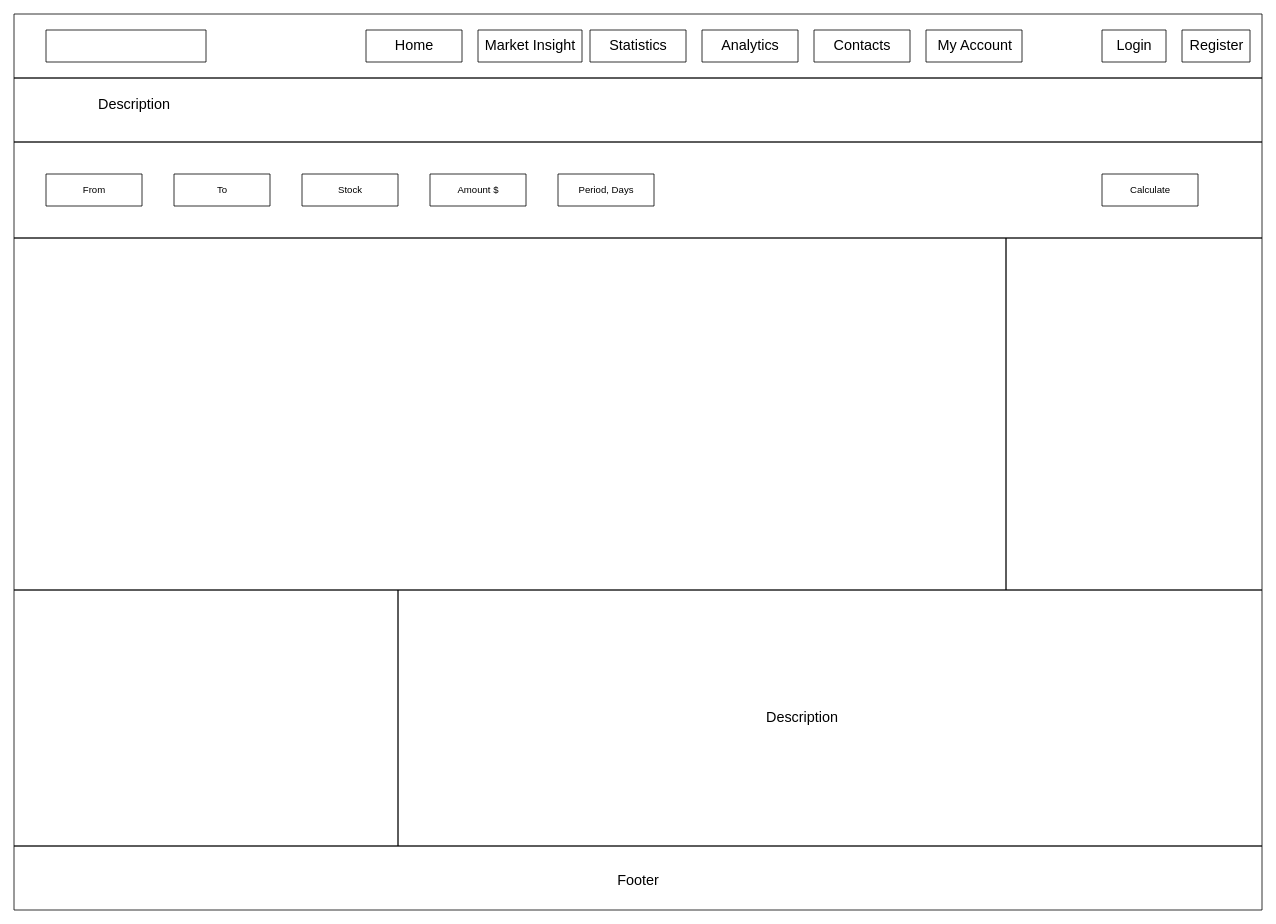
The diagram is 1276 pixels wide and 924 high, and some of its shapes have lost their labels. The shapes that lost their labels are listed below. From the top down, each one's box as (x1, y1, x2, y2) in pixels, then its label:
(45, 29, 206, 62): Logo
(13, 237, 1006, 590): Chart
(1005, 237, 1262, 590): Stocks
(13, 589, 398, 846): Image
